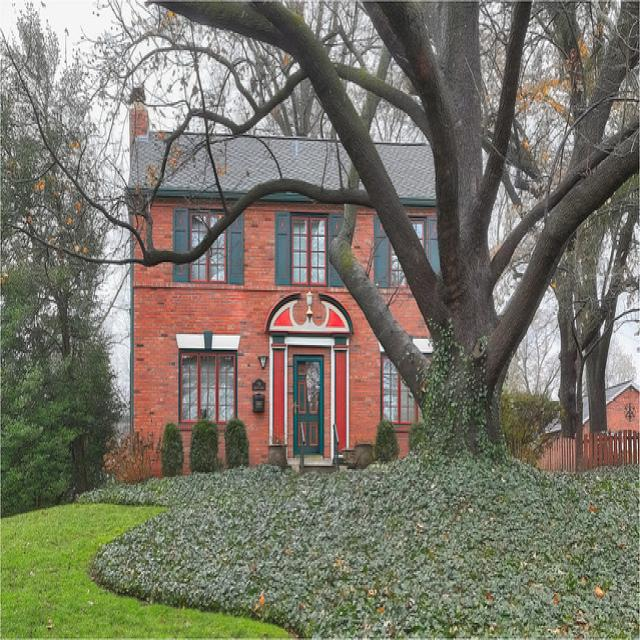building: (118, 78, 466, 473)
